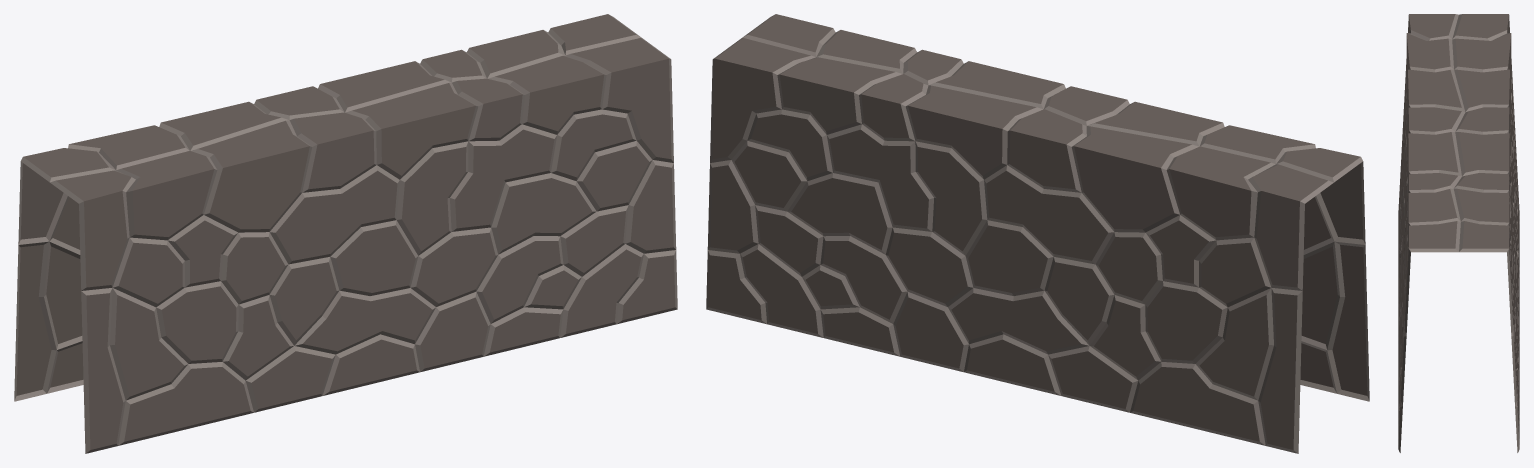
The model's file is Basement_Line_Short.fbx.
3 views of the same model, side by side, from view 1: azimuth 30°, elevation 25°; view 2: azimuth 150°, elevation 25°; view 3: azimuth 270°, elevation 25° (orthographic). The views are drawn at different scales.
Parts seen in each view (by area): view 1: Basement_Line_Short; view 2: Basement_Line_Short; view 3: Basement_Line_Short.
Part boxes in pixels (<box>): Basement_Line_Short: <box>14,14,677,453</box>; Basement_Line_Short: <box>706,14,1369,453</box>; Basement_Line_Short: <box>1398,14,1519,452</box>.
Bounding box in the file's own units: 2.4 × 0.5183 × 0.96.
